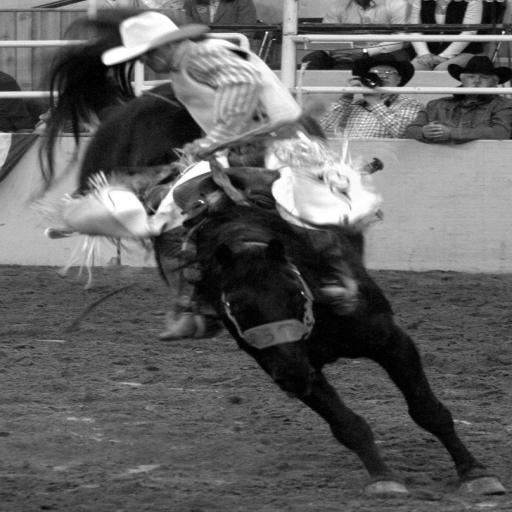Horse: (34, 7, 507, 498)
